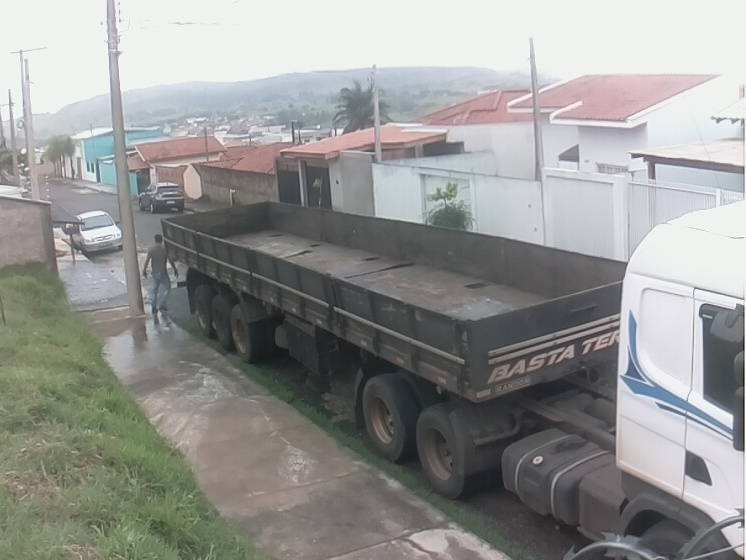person: (140, 232, 181, 315)
